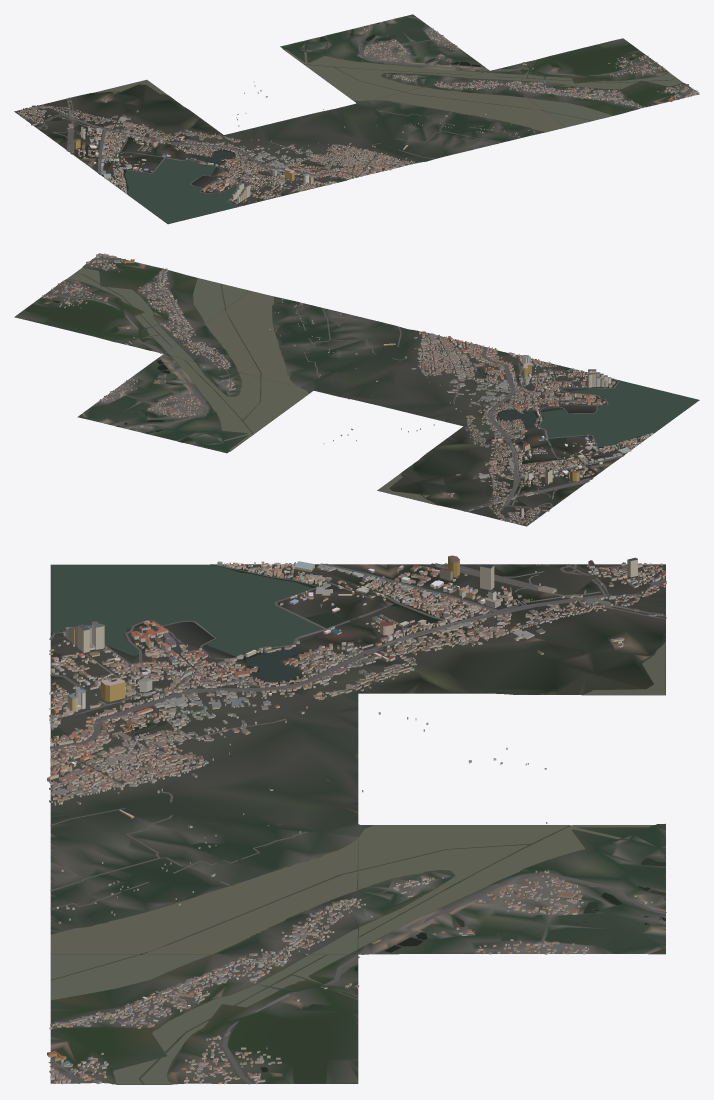
3 views of the same model, one above another, from view 1: azimuth 30°, elevation 25°; view 2: azimuth 150°, elevation 25°; view 3: azimuth 270°, elevation 25° (orthographic). The views are drawn at different scales.
Parts seen in each view (by area): view 1: ground, water, buildings, roads; view 2: ground, water, buildings, roads; view 3: ground, water, buildings, roads.
Part boxes in pixels (x1,y1,x2,y2): ground: (14,16,699,224); water: (94,14,682,223); buildings: (16,28,699,204); roads: (20,24,693,206); ground: (14,253,699,526); water: (53,268,699,504); buildings: (42,253,653,525); roads: (44,258,653,521); ground: (50,564,665,1084); water: (50,564,665,1084); buildings: (47,555,666,1084); roads: (48,563,666,1084).
Size of the model in its own units: 5626 by 121 by 2826.
